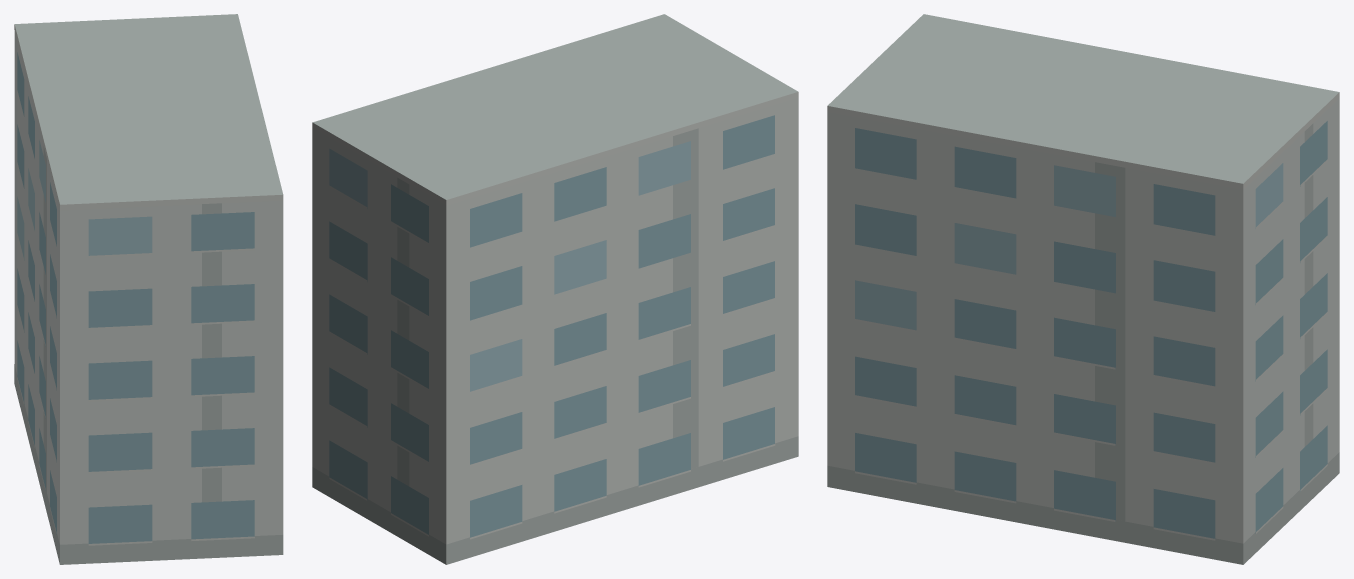
Rendered from residential-084a6947-9a2b-489f-9e83-53c4bf8bc804.glb.
3 views of the same model, side by side, from view 1: azimuth 30°, elevation 25°; view 2: azimuth 150°, elevation 25°; view 3: azimuth 270°, elevation 25° (orthographic). The views are drawn at different scales.
Parts seen in each view (by area): view 1: residential-084a6947-9a2b-489f-9e83-53c4bf8bc804.tmp; view 2: residential-084a6947-9a2b-489f-9e83-53c4bf8bc804.tmp; view 3: residential-084a6947-9a2b-489f-9e83-53c4bf8bc804.tmp.
Part boxes in pixels (x1=…): residential-084a6947-9a2b-489f-9e83-53c4bf8bc804.tmp: x1=14, y1=14, x2=283, y2=564; residential-084a6947-9a2b-489f-9e83-53c4bf8bc804.tmp: x1=312, y1=14, x2=798, y2=564; residential-084a6947-9a2b-489f-9e83-53c4bf8bc804.tmp: x1=827, y1=14, x2=1339, y2=564.
Size of the model in its own units: 14.58 by 15.25 by 18.59.
